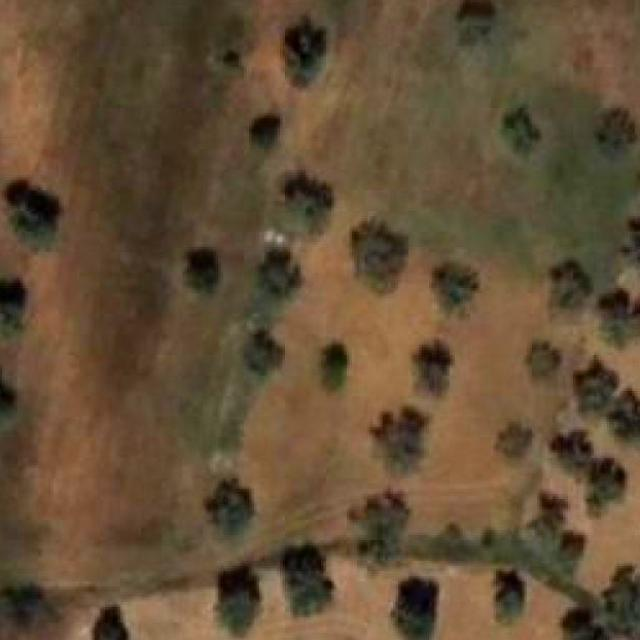Tree: (350, 218, 417, 290), (4, 178, 63, 254), (368, 404, 427, 476), (347, 497, 404, 567), (275, 178, 336, 239), (280, 21, 333, 88), (280, 548, 330, 618), (213, 569, 261, 639), (390, 576, 439, 640), (0, 273, 39, 353), (578, 463, 634, 516), (599, 569, 640, 636), (208, 475, 254, 534), (427, 257, 479, 308), (545, 430, 599, 479), (527, 486, 571, 546), (489, 566, 532, 627), (254, 247, 305, 297), (180, 245, 230, 296), (410, 340, 457, 393), (597, 293, 640, 347), (548, 260, 588, 318), (458, 0, 501, 51), (496, 106, 541, 154), (597, 110, 640, 159), (573, 360, 611, 410), (249, 108, 289, 152), (609, 396, 640, 446), (554, 609, 601, 640), (244, 328, 280, 368), (496, 417, 531, 457), (530, 342, 561, 383), (90, 605, 126, 640), (321, 340, 353, 378), (560, 535, 592, 567), (0, 365, 15, 417), (627, 213, 640, 248), (632, 247, 640, 278)
